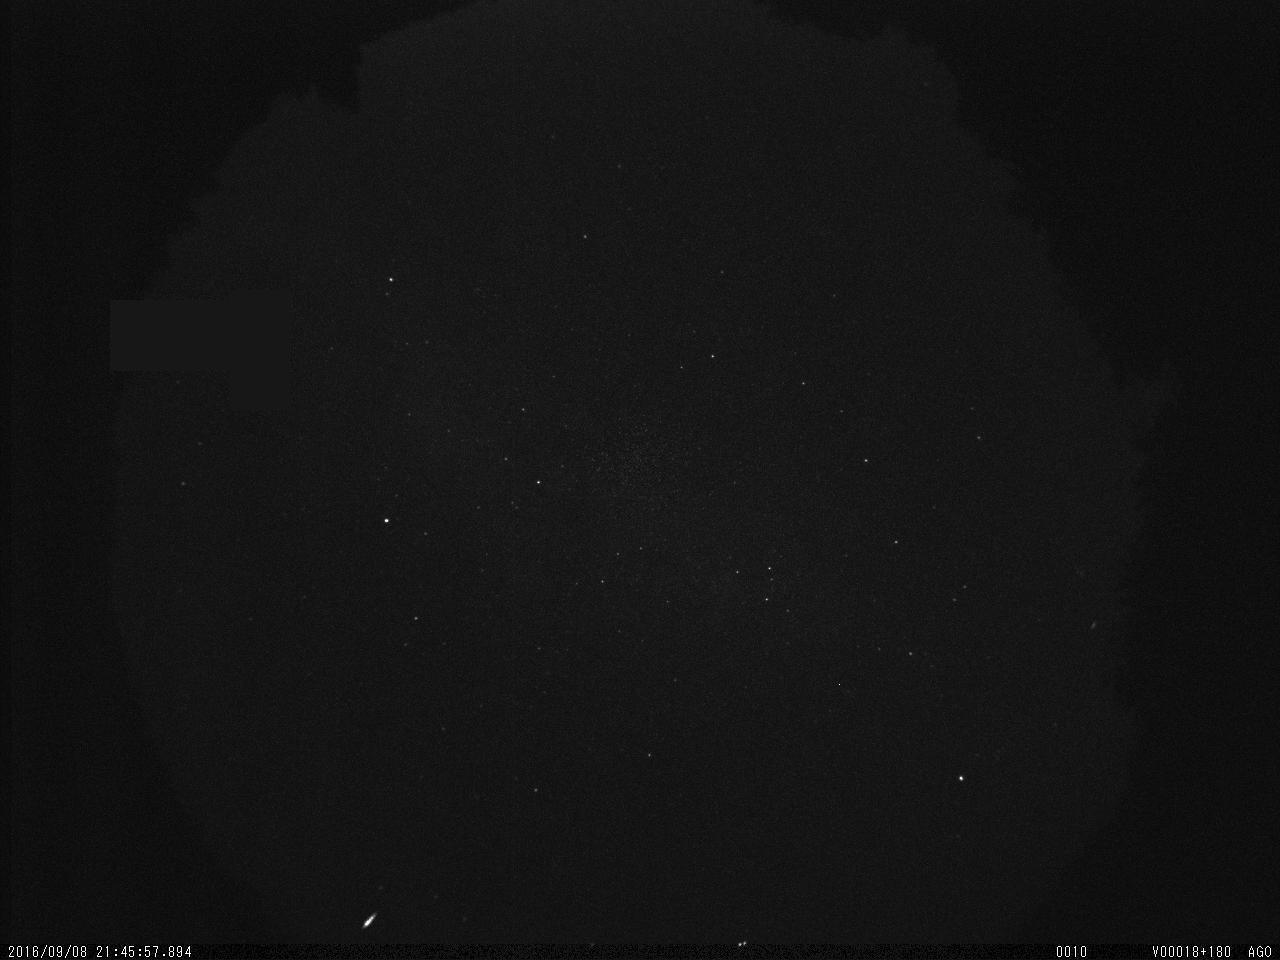meteor: (351, 897, 391, 938)
